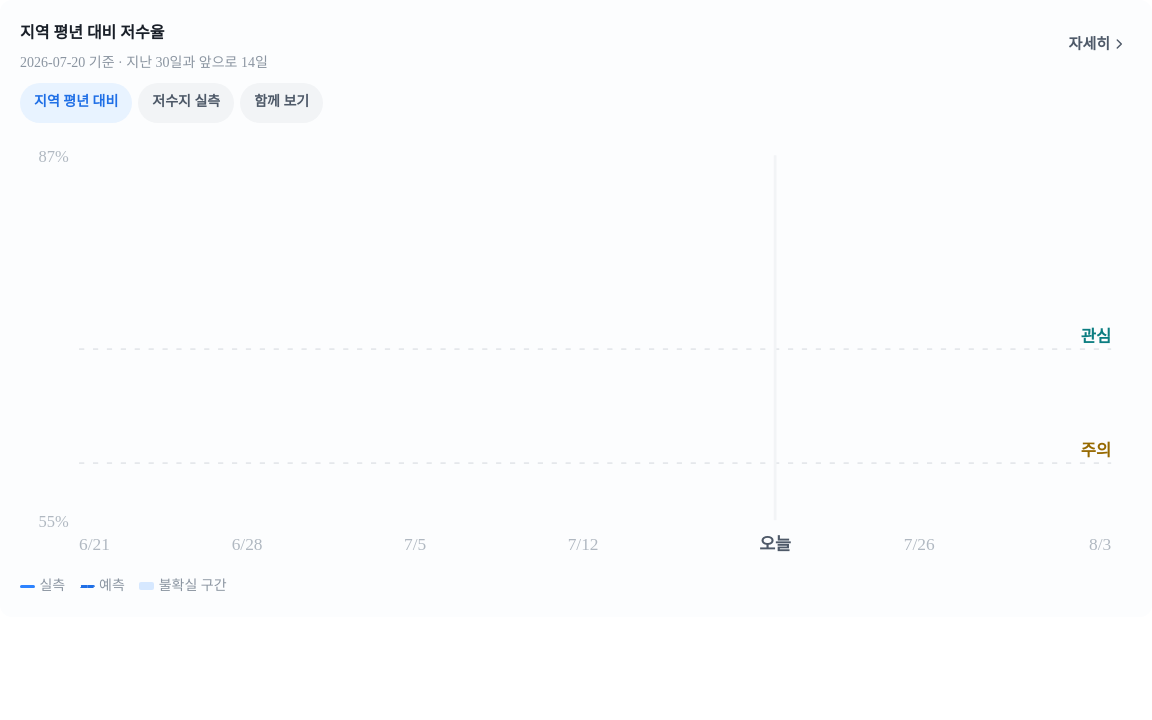
Scenario: TrendChartCard 지표 토글 3종 › 저수지 실측: 예측선·밴드 없이 관측만 그린다
Click the button "저수지 실측". click: (186, 103)
box: [138,83,234,123]
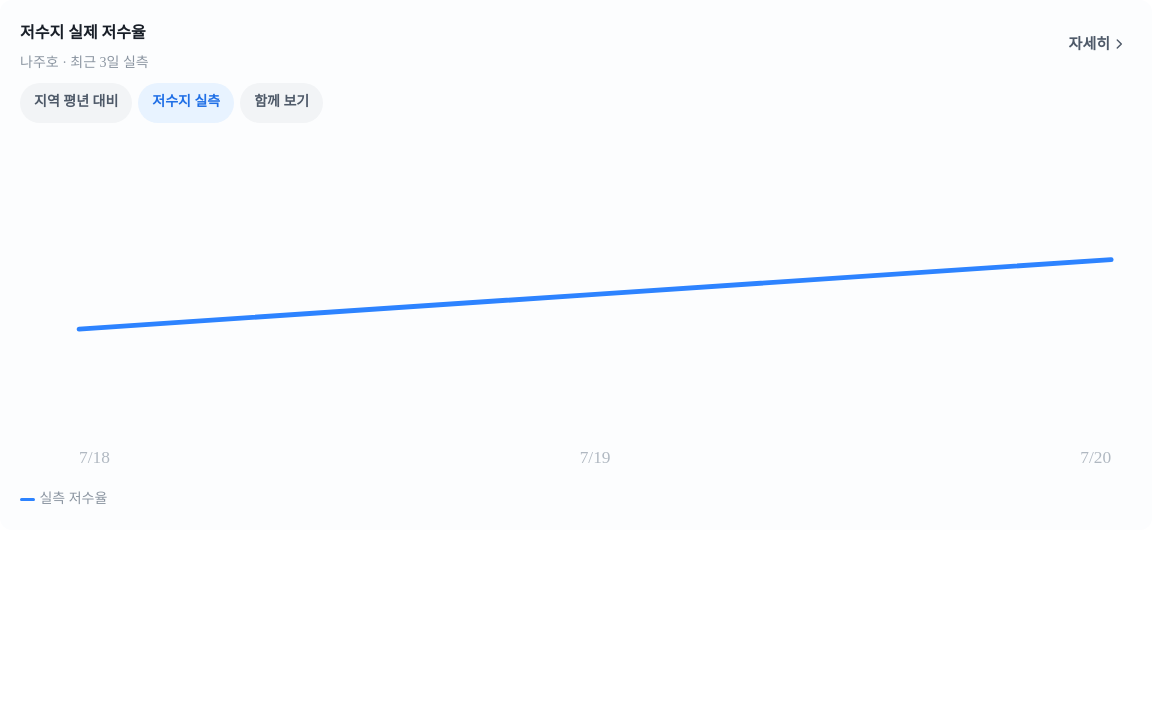
Expected: the text "나주호" is shown, [20,55,149,70]
